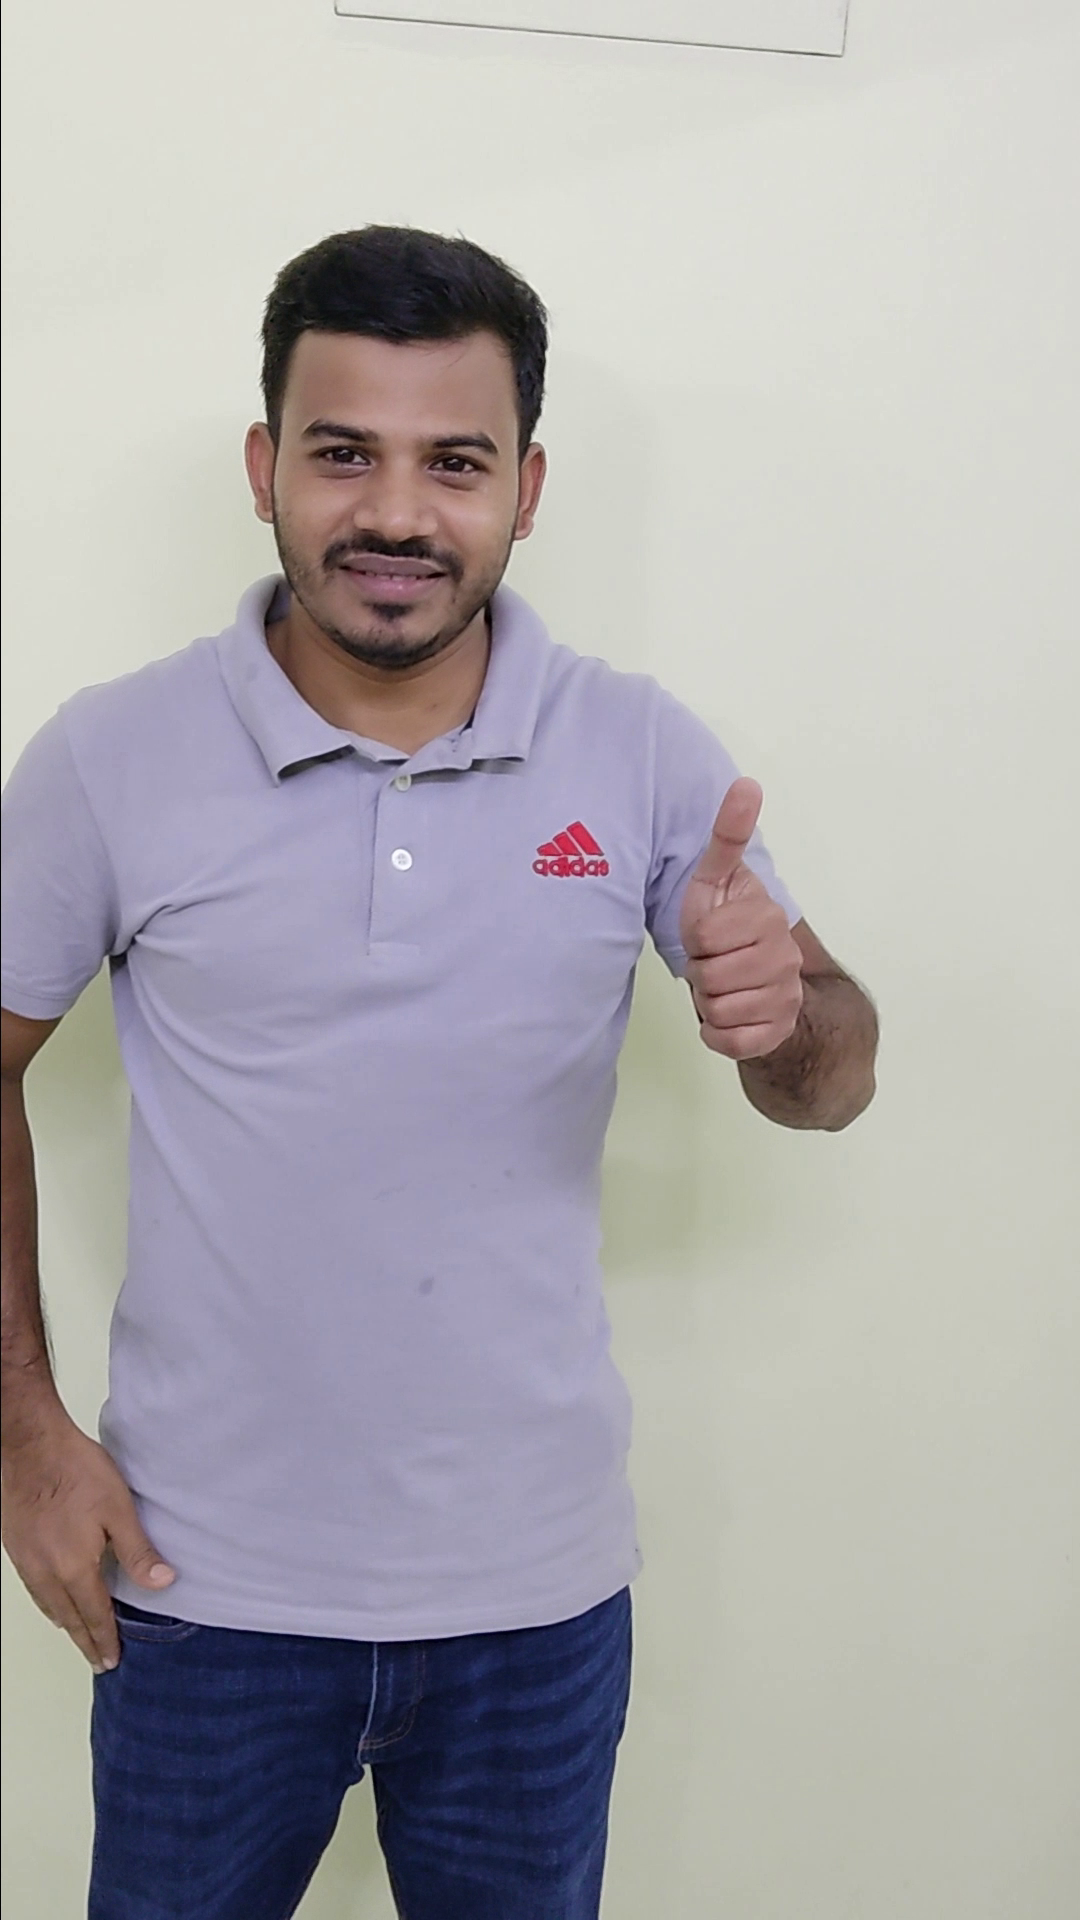Like: (653, 771, 825, 1080)
None: (3, 1395, 182, 1683)
